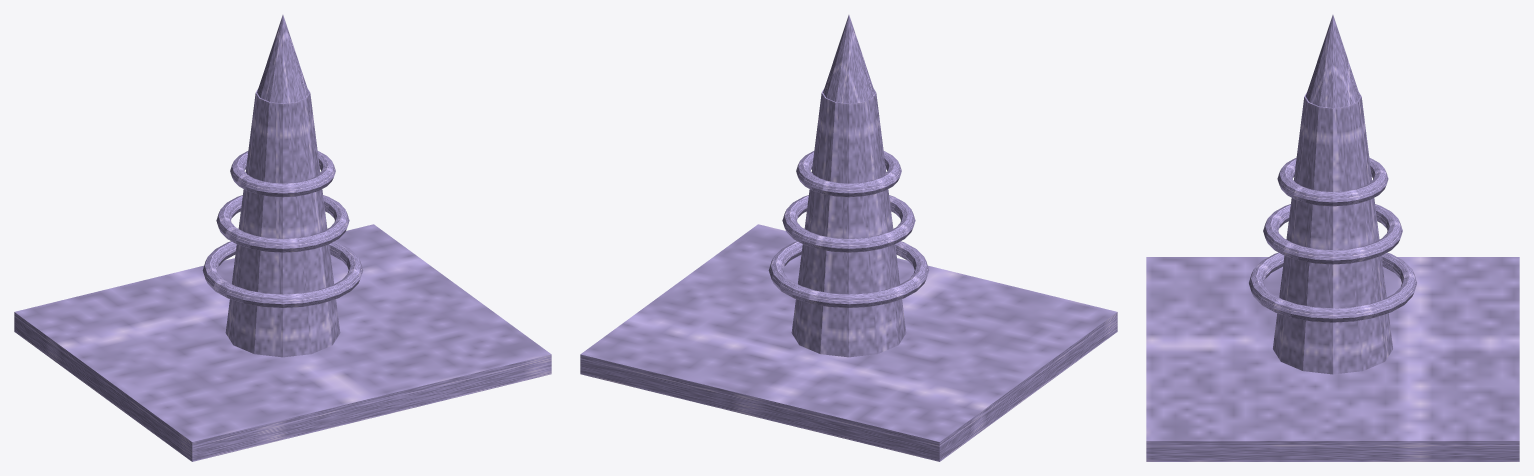
Rendered from thunder_obelisk_02.glb.
3 views of the same model, side by side, from view 1: azimuth 30°, elevation 25°; view 2: azimuth 150°, elevation 25°; view 3: azimuth 270°, elevation 25° (orthographic). The views are drawn at different scales.
Parts seen in each view (by area): view 1: Foundation, ThunderPillar, Conductor, Conductor.001, LightningTip, Conductor.002; view 2: Foundation, ThunderPillar, Conductor, Conductor.001, LightningTip, Conductor.002; view 3: Foundation, ThunderPillar, Conductor, Conductor.001, LightningTip, Conductor.002.
Part boxes in pixels (box(x1,y1,x2,y2)): Foundation: box(14, 224, 551, 461); ThunderPillar: box(225, 89, 340, 357); Conductor: box(202, 241, 363, 307); Conductor.001: box(216, 195, 349, 252); LightningTip: box(257, 15, 308, 103); Conductor.002: box(230, 151, 335, 197); Foundation: box(580, 224, 1117, 461); ThunderPillar: box(791, 89, 906, 357); Conductor: box(768, 241, 929, 307); Conductor.001: box(782, 195, 915, 252); LightningTip: box(823, 15, 874, 103); Conductor.002: box(796, 151, 901, 197); Foundation: box(1146, 257, 1519, 461); ThunderPillar: box(1273, 92, 1392, 374); Conductor: box(1249, 252, 1416, 322); Conductor.001: box(1263, 204, 1402, 264); LightningTip: box(1305, 15, 1360, 107); Conductor.002: box(1277, 157, 1388, 206).
Size of the model in its own units: 4.55 by 4.1 by 3.9.
Materials: 1 (1 with a texture image).
